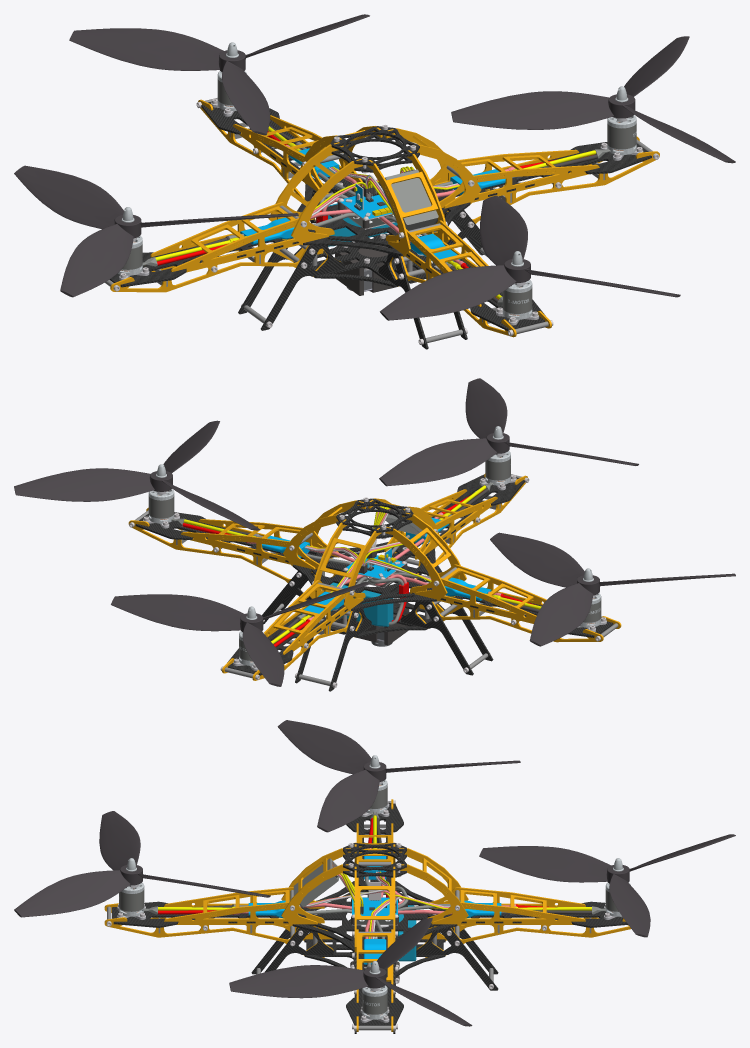
File: drone.glb
3 renders of one model, top to bottom at view 1: azimuth 30°, elevation 25°; view 2: azimuth 150°, elevation 25°; view 3: azimuth 270°, elevation 25°, orthographic. The views are drawn at different scales.
Size of the model in its own units: 0.7876 by 0.154 by 0.7876.
Materials: 5 (5 with a texture image).
